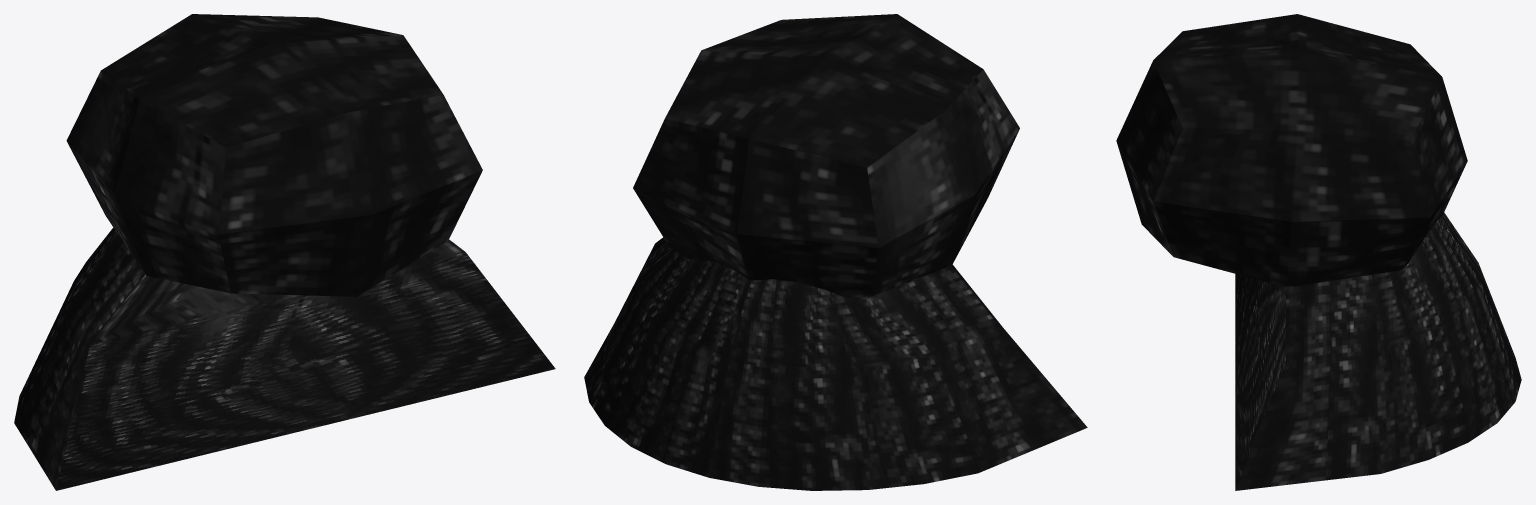
Rendered from hair_long_aksum_male_02.dae.
The picture shows the model from 3 angles, left to right: view 1: azimuth 30°, elevation 25°; view 2: azimuth 150°, elevation 25°; view 3: azimuth 270°, elevation 25°; orthographic projection. The views are drawn at different scales.
Visible parts, largest first — view 1: a_hair_long_aksum_male_02; view 2: a_hair_long_aksum_male_02; view 3: a_hair_long_aksum_male_02.
Boxes of the visible parts, x1,y1,x2,y2 form: a_hair_long_aksum_male_02: (14, 14, 555, 490); a_hair_long_aksum_male_02: (584, 14, 1087, 490); a_hair_long_aksum_male_02: (1116, 14, 1521, 490).
Bounding box in the file's own units: 0.8154 × 0.6292 × 0.5625.
